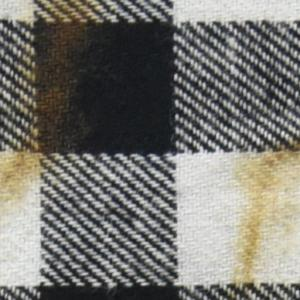Oil Stain: (1, 1, 116, 225), (229, 137, 300, 300)
